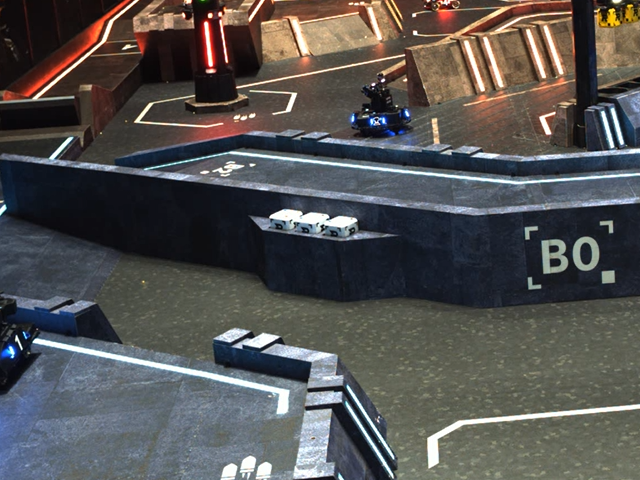rm: (349, 78, 412, 138), (424, 0, 463, 13)
